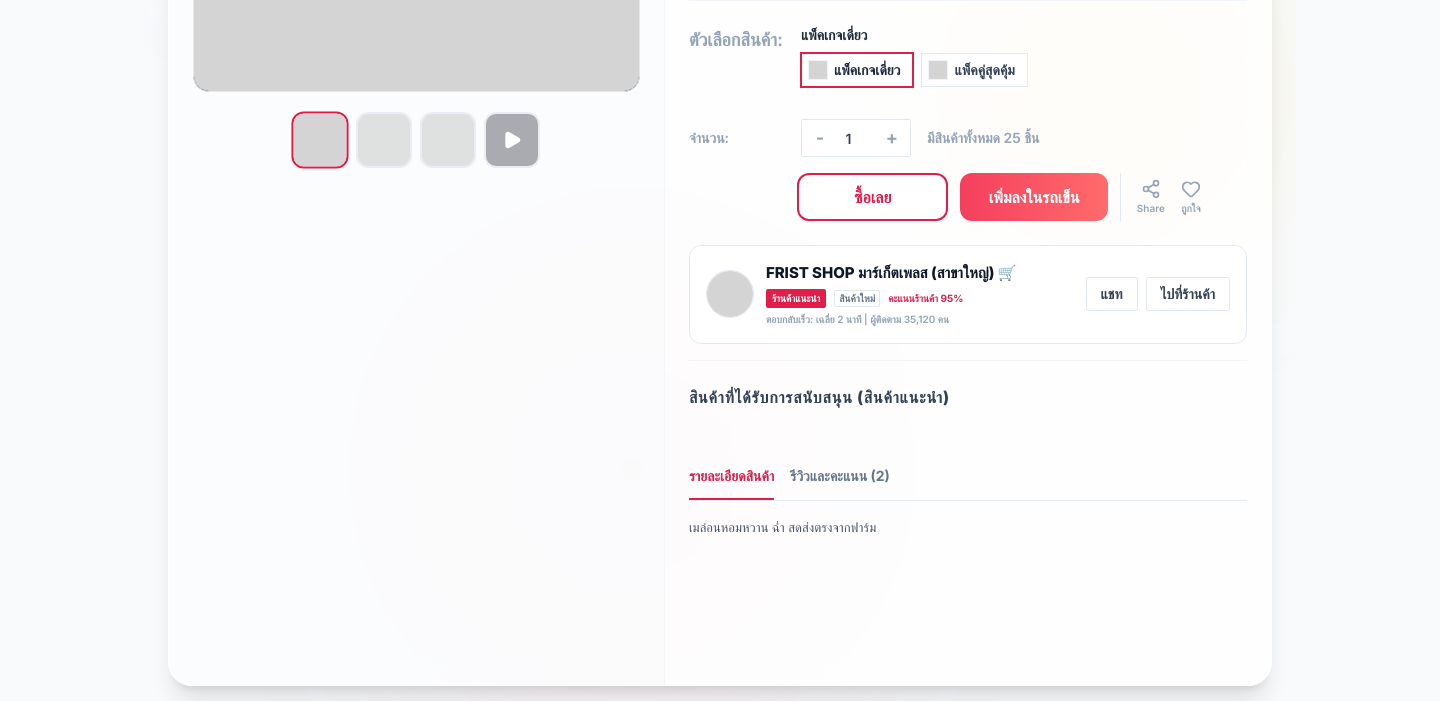
Test: ProductDetailPage - Product Reviews & Ratings System › submits a new review and updates review list and feedback message
(page scrolled)
Click the button "รีวิวและคะแนน (2)".
click(840, 482)  # box top-left (790, 464), bottom-right (890, 500)
(page scrolled)
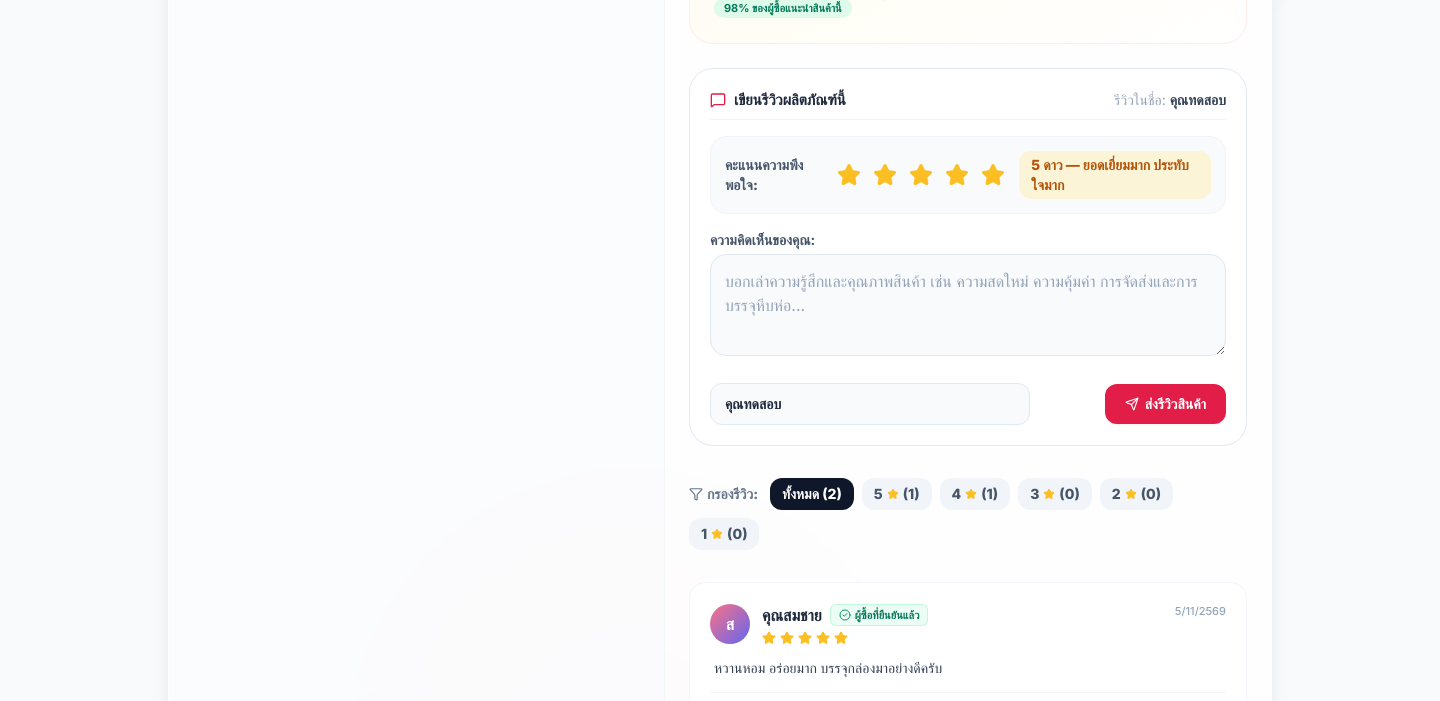
Result: the heading "เขียนรีวิวผลิตภัณฑ์นี้" is shown at top-left (710, 88), bottom-right (846, 111)
Replace the text in the text box with placeholder "บอกเล่าความรู้สึกและคุณภาพสินค้า" with "รสชาติดีเลิศ สดกรอบ คุ้มเกินราคาจริงๆ" at (968, 305), box top-left (710, 254), bottom-right (1226, 356)
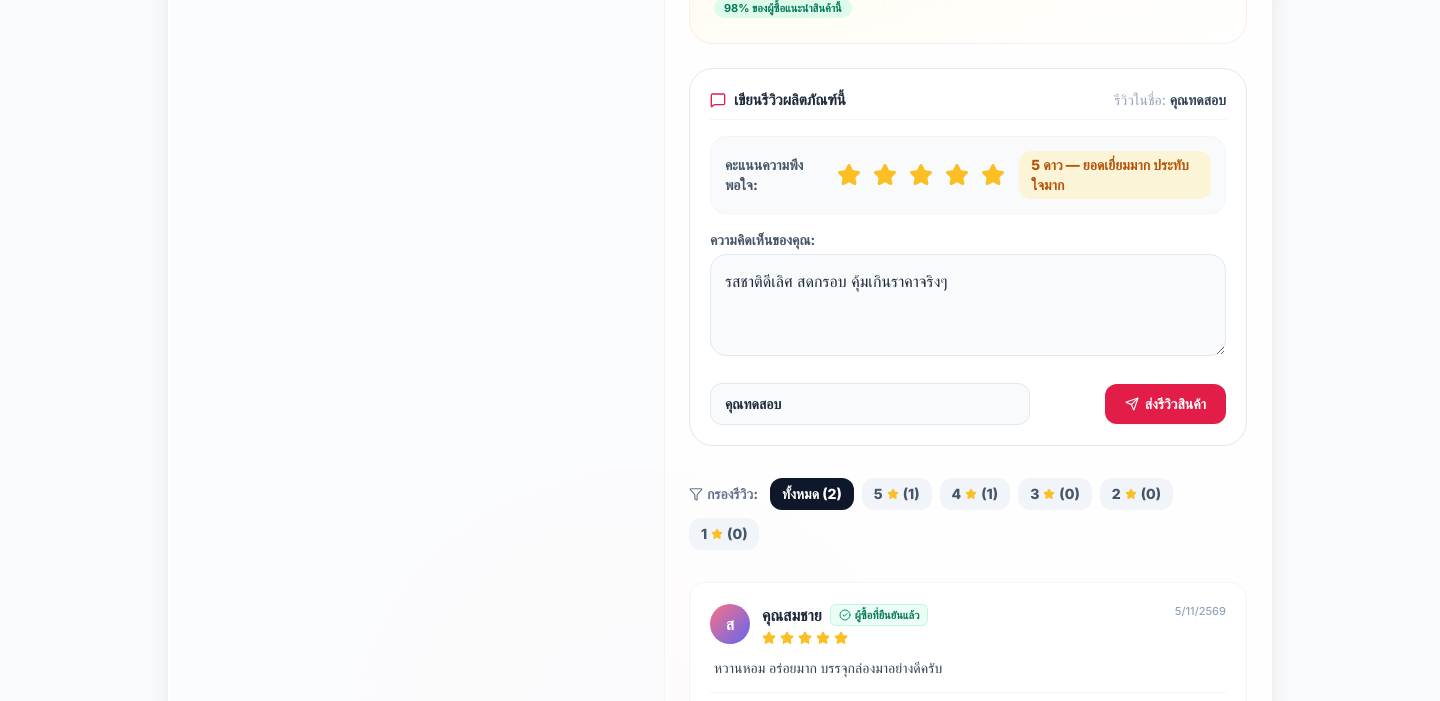
Replace the text in the field with placeholder "ชื่อของคุณสำหรับแสดงบนรีวิว" with "คุณกานต์" at (870, 404), box top-left (710, 383), bottom-right (1030, 425)
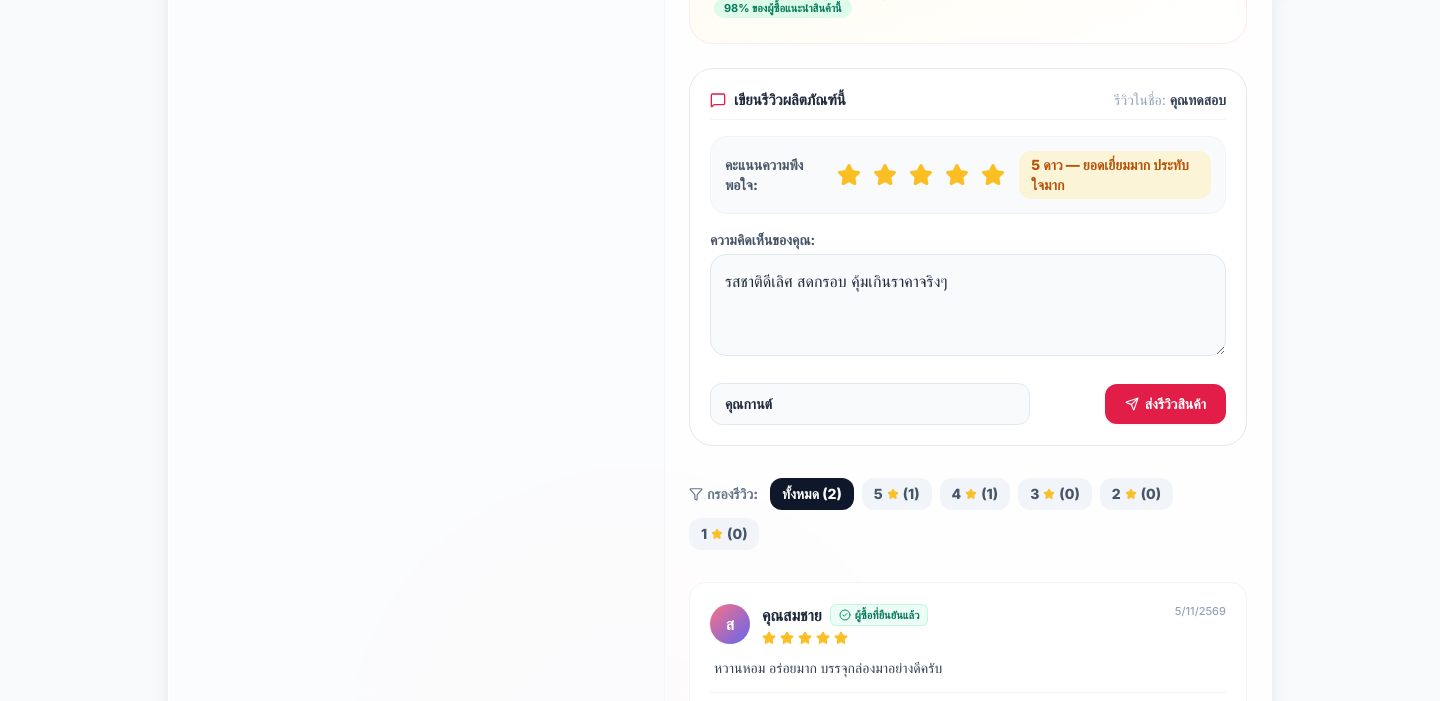
Click the button "ส่งรีวิวสินค้า".
click(1165, 404)  # box top-left (1105, 384), bottom-right (1226, 424)
(page scrolled)
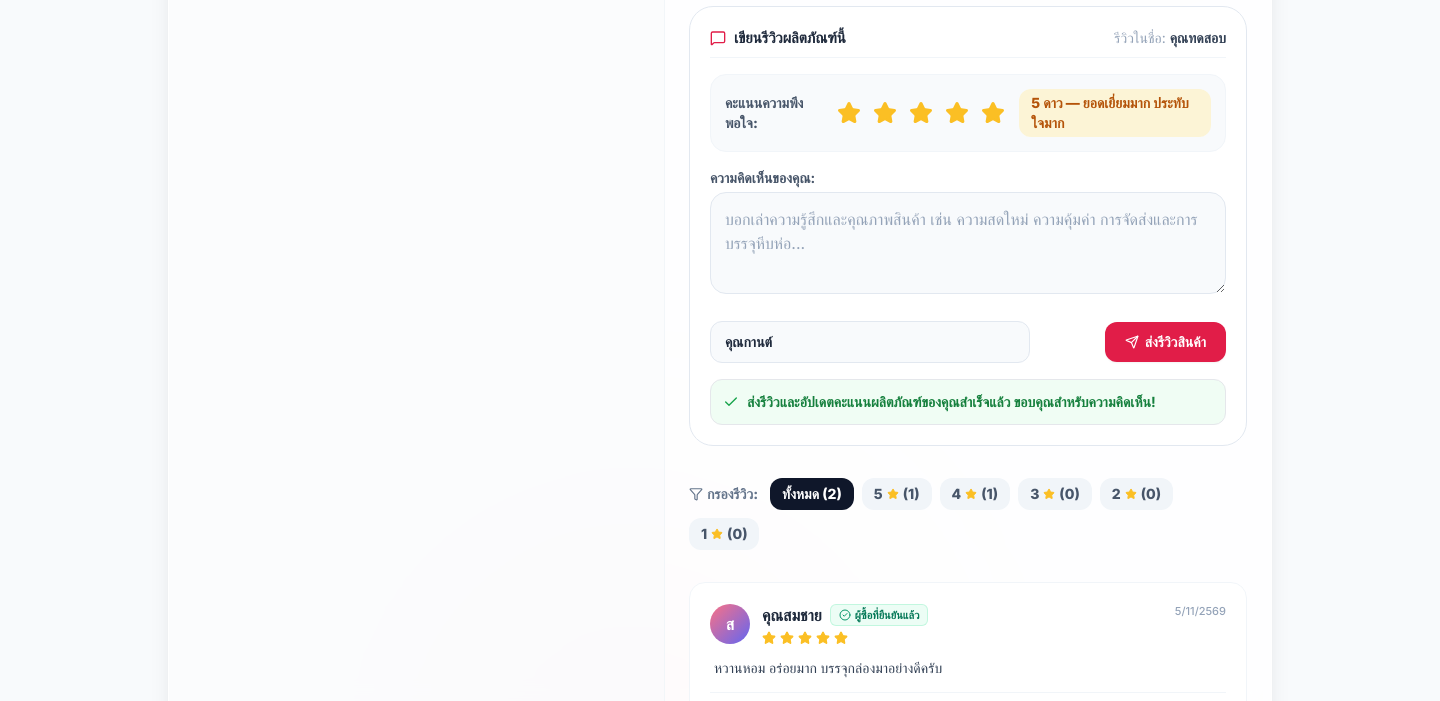
Result: the text "ส่งรีวิวและอัปเดตคะแนนผลิตภัณฑ์ของคุณสำเร็จแล้ว" is shown at top-left (747, 393), bottom-right (1156, 410)
